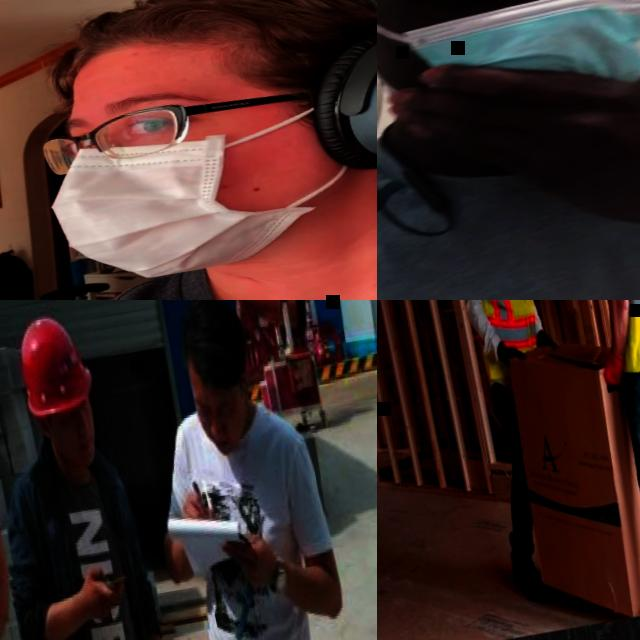Hardhat: (8, 308, 99, 420)
Mask: (38, 103, 361, 298), (391, 0, 640, 122)
NO-Hardhat: (58, 0, 377, 115), (171, 300, 250, 393)
NO-Mask: (48, 418, 101, 464), (0, 543, 19, 640), (196, 406, 242, 444)
NO-Safety Vest: (377, 85, 640, 300), (164, 400, 326, 640), (0, 211, 377, 300), (16, 456, 165, 640)
Person: (0, 0, 377, 300), (121, 300, 377, 640), (377, 0, 640, 300), (0, 303, 199, 640), (433, 300, 599, 602), (550, 300, 640, 615)
Safety Vest: (453, 300, 550, 376), (578, 300, 640, 376)
